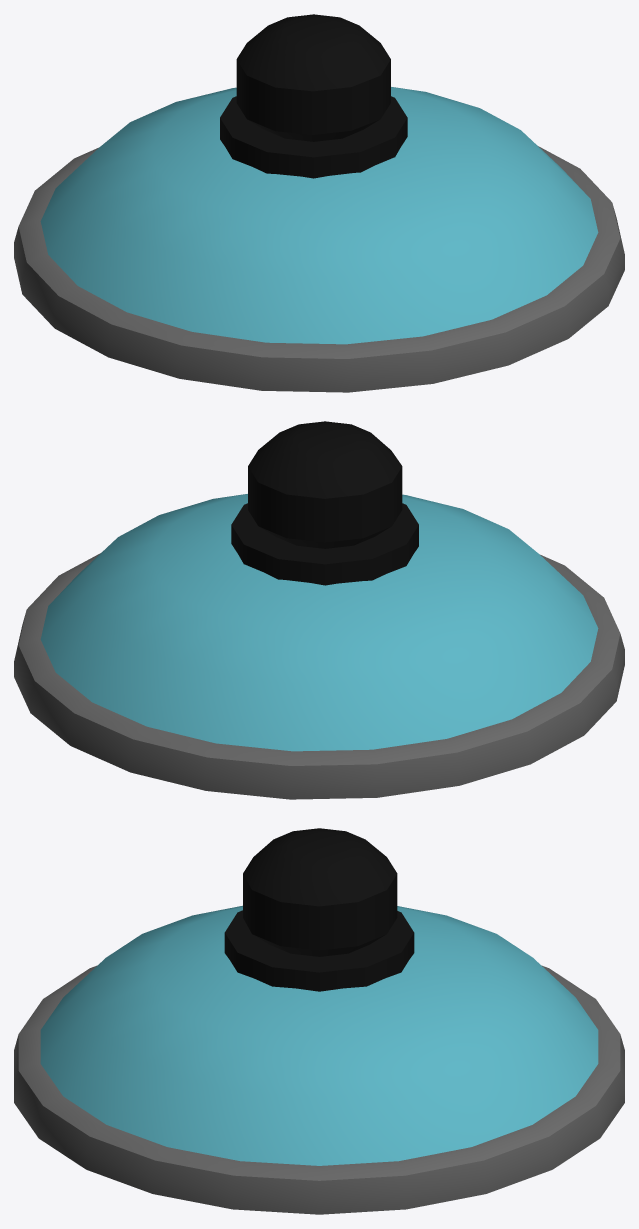
Rendered from SM_pot_lid_01.fbx.
3 renders of one model, top to bottom at view 1: azimuth 30°, elevation 25°; view 2: azimuth 150°, elevation 25°; view 3: azimuth 270°, elevation 25°, orthographic.
Parts seen in each view (by area): view 1: Object030; view 2: Object030; view 3: Object030.
Part boxes in pixels (<box>): Object030: <box>14,14,624,392</box>; Object030: <box>14,421,624,799</box>; Object030: <box>14,828,624,1214</box>.
Bounding box in the file's own units: 16.65 × 7.06 × 16.48.
